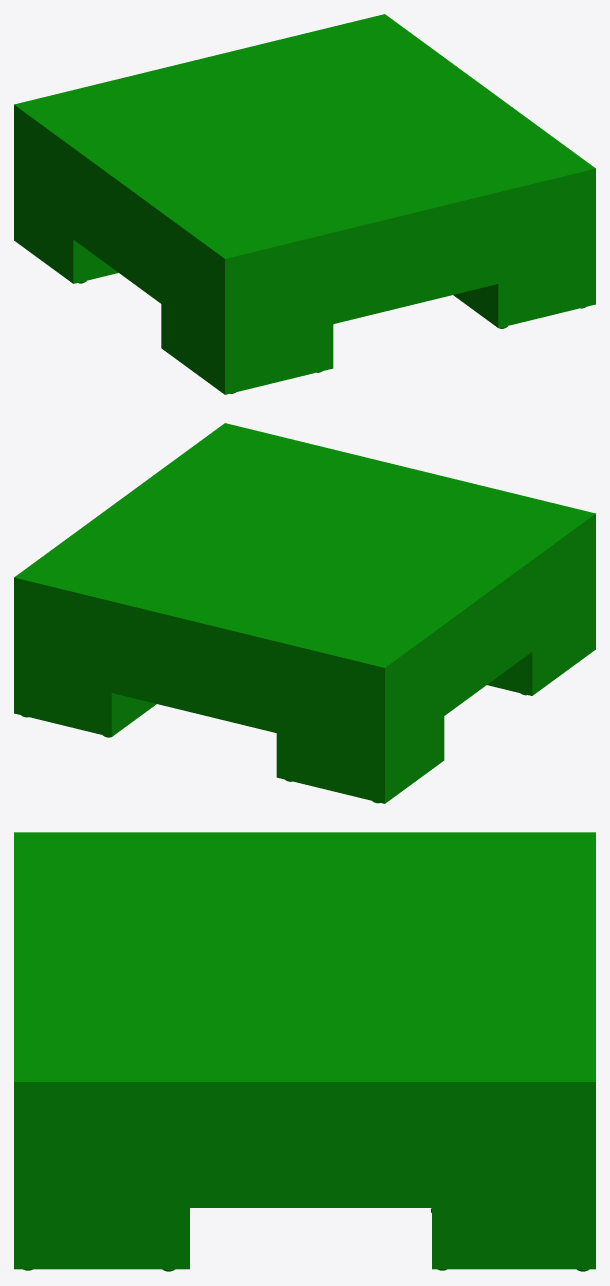
The model's file is TracksWaySwitchPiece.fbx.
3 views of the same model, one above another, from view 1: azimuth 30°, elevation 25°; view 2: azimuth 150°, elevation 25°; view 3: azimuth 270°, elevation 25° (orthographic). The views are drawn at different scales.
Visible parts, largest first — view 1: WaySwitchPiece; view 2: WaySwitchPiece; view 3: WaySwitchPiece.
Part boxes in pixels (bbox=[...]): WaySwitchPiece: bbox=[14, 14, 595, 394]; WaySwitchPiece: bbox=[14, 423, 595, 803]; WaySwitchPiece: bbox=[14, 832, 595, 1271].
Bounding box in the file's own units: 14.43 × 5.22 × 14.23.
